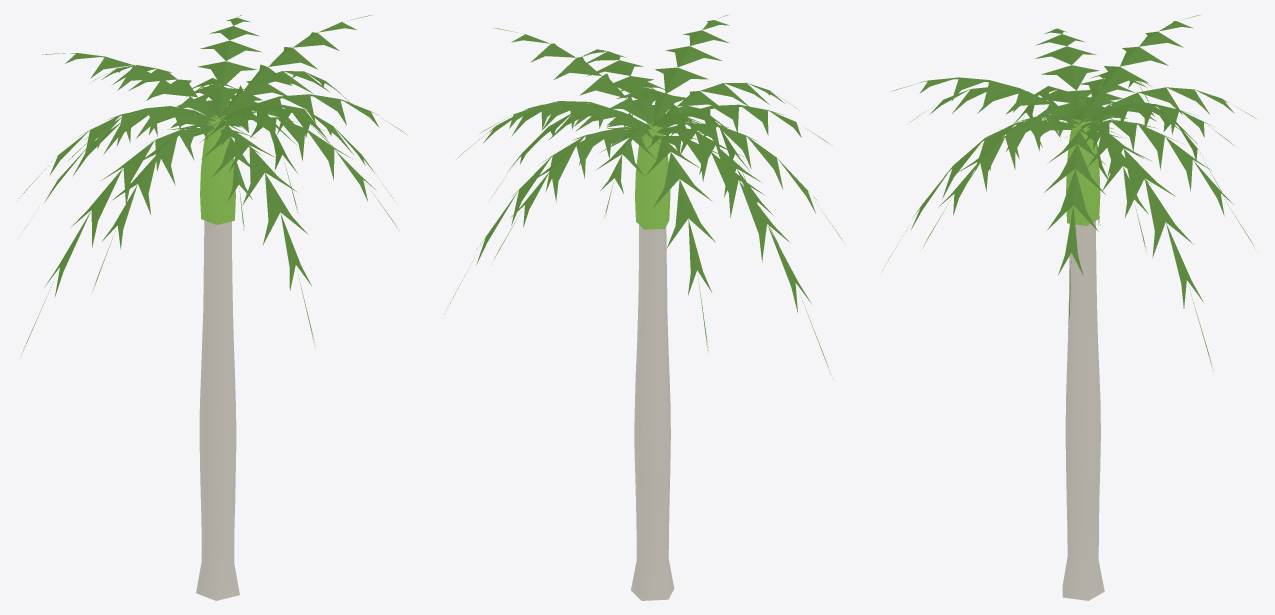
Rendered from Blender_RoyalPalm_1_Far.glb.
The picture shows the model from 3 angles, left to right: view 1: azimuth 30°, elevation 25°; view 2: azimuth 150°, elevation 25°; view 3: azimuth 270°, elevation 25°; orthographic projection.
Parts seen in each view (by area): view 1: Blender_RoyalPalm_1_Far; view 2: Blender_RoyalPalm_1_Far; view 3: Blender_RoyalPalm_1_Far.
Boxes of the visible parts, x1,y1,x2,y2 form: Blender_RoyalPalm_1_Far: (18,15,406,600); Blender_RoyalPalm_1_Far: (444,14,843,600); Blender_RoyalPalm_1_Far: (882,15,1257,600).
Bounding box in the file's own units: 14.82 × 20.67 × 13.38.
